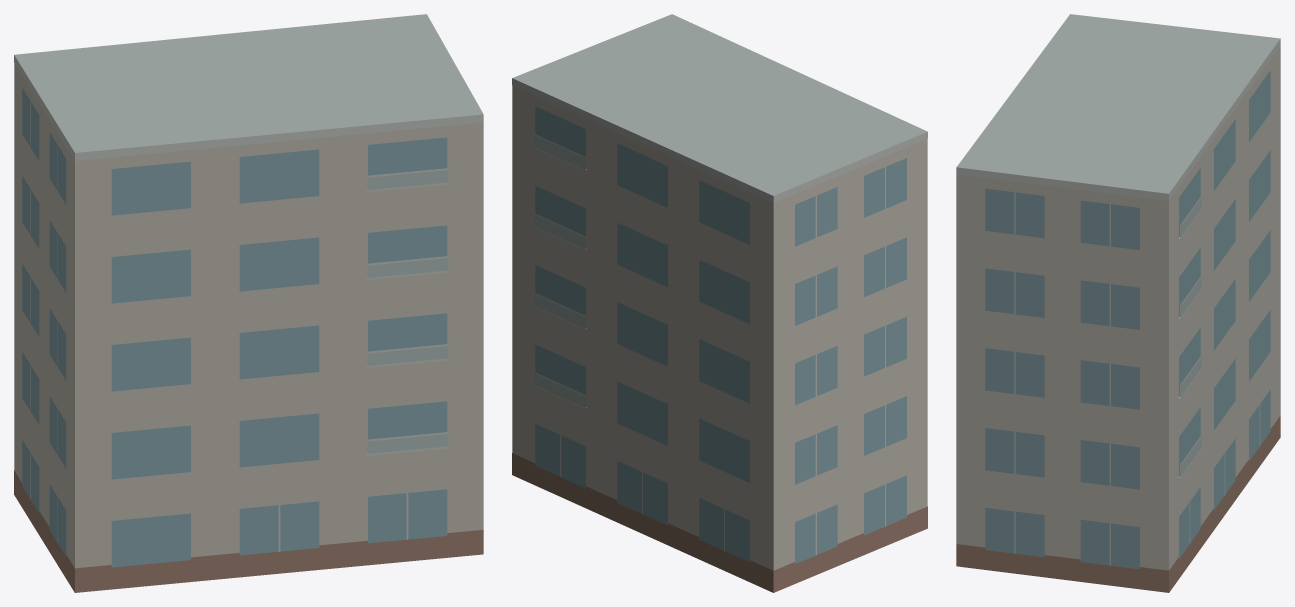
Rendered from survey-upis-32930089.glb.
3 views of the same model, side by side, from view 1: azimuth 30°, elevation 25°; view 2: azimuth 150°, elevation 25°; view 3: azimuth 270°, elevation 25° (orthographic). The views are drawn at different scales.
Parts seen in each view (by area): view 1: survey-upis-32930089.tmp; view 2: survey-upis-32930089.tmp; view 3: survey-upis-32930089.tmp.
Boxes of the visible parts, <box> form: survey-upis-32930089.tmp: <box>14,14,483,592</box>; survey-upis-32930089.tmp: <box>512,14,927,592</box>; survey-upis-32930089.tmp: <box>956,14,1280,592</box>.
Size of the model in its own units: 13.16 by 13.6 by 10.02.
